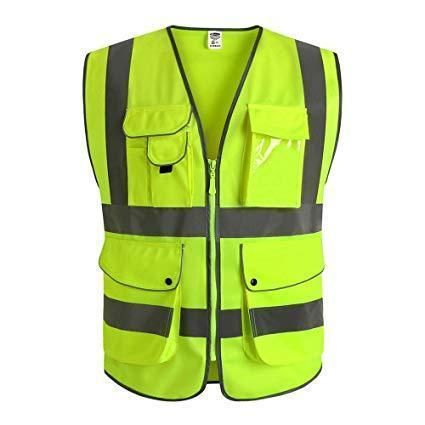vest: (78, 23, 343, 399)
